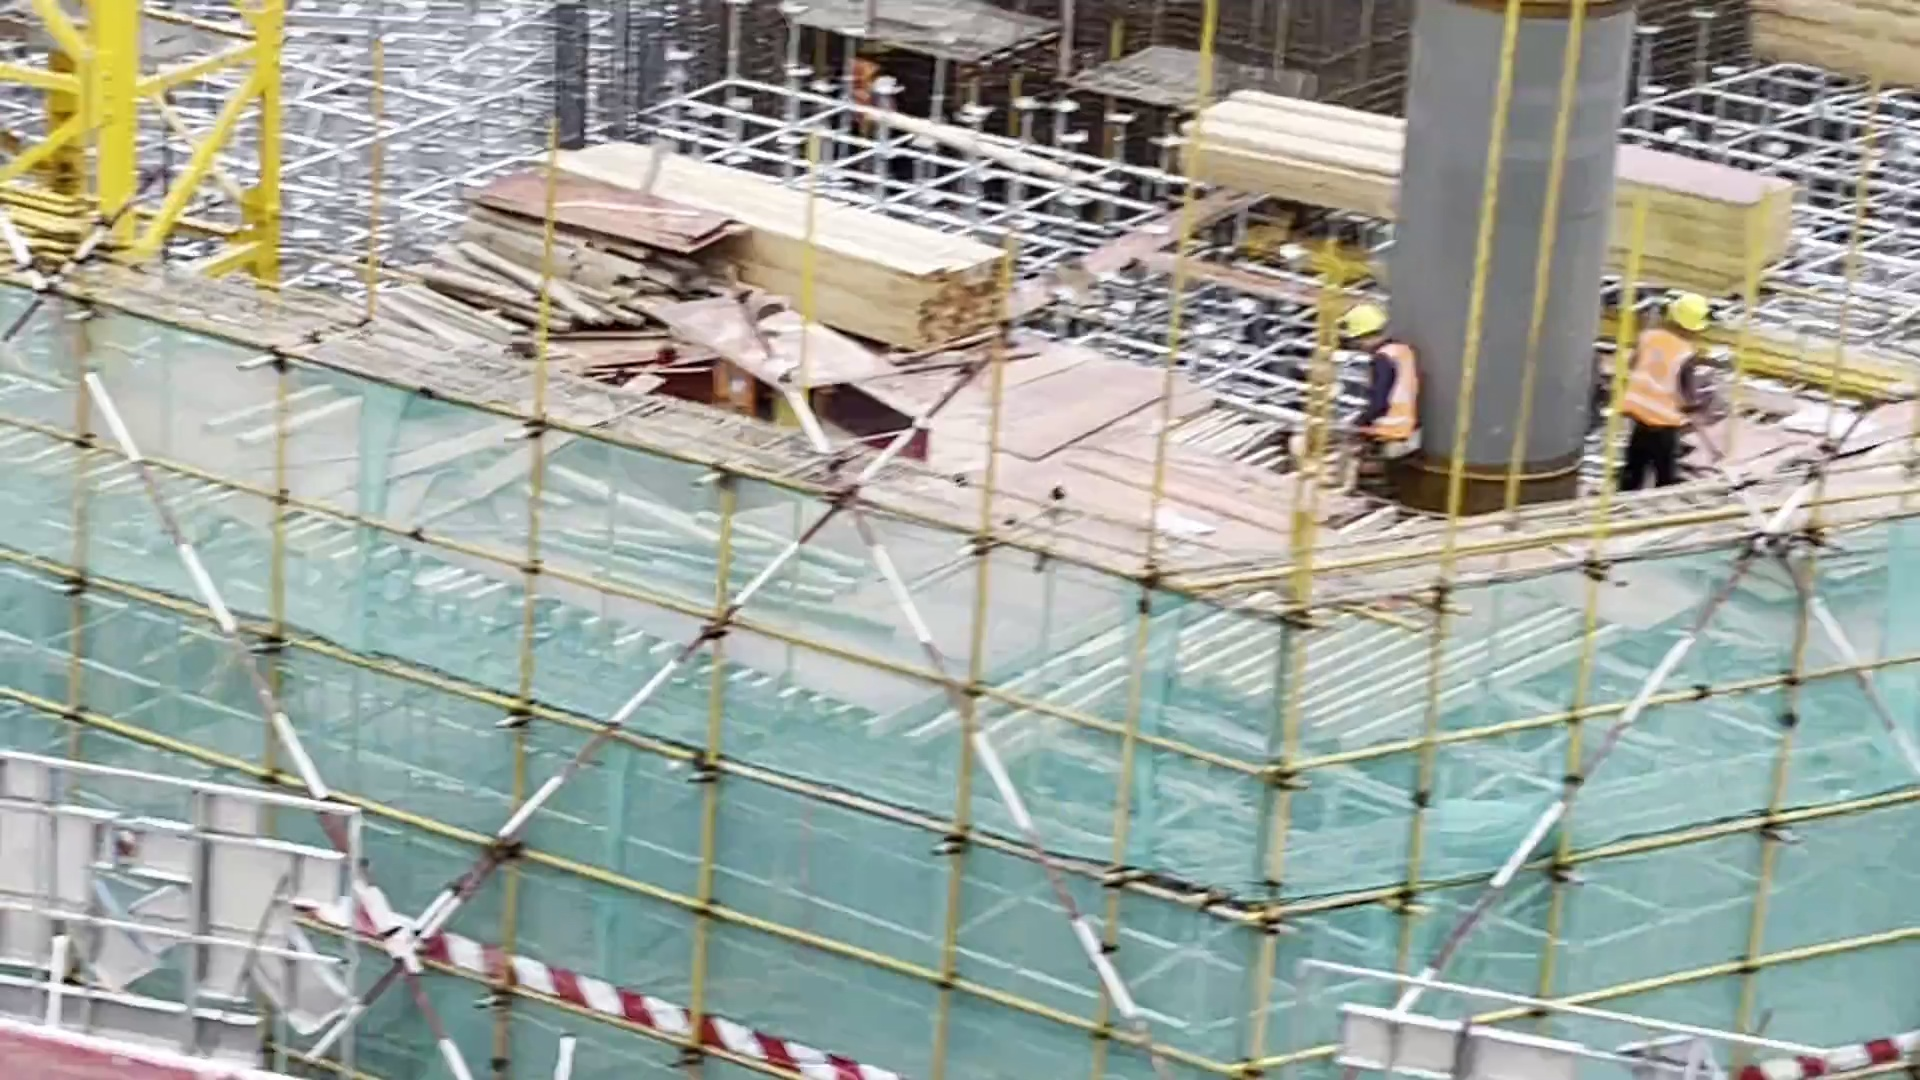cutter: (674, 289, 888, 425)
helmet: (1665, 278, 1712, 341), (1335, 302, 1388, 343)
person: (1327, 293, 1429, 492), (1613, 286, 1700, 496)
vest: (1636, 327, 1690, 425), (1364, 340, 1412, 441)
wood: (551, 130, 1015, 341), (348, 207, 706, 369)
